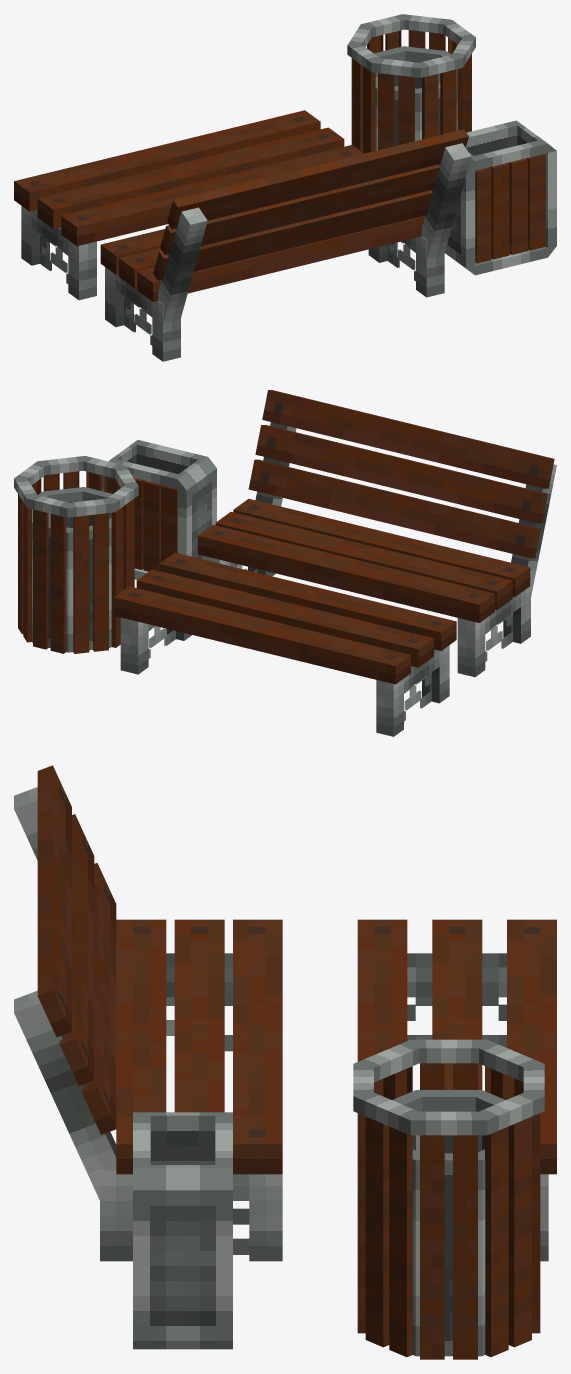
File: bench.fbx
3 renders of one model, top to bottom at view 1: azimuth 30°, elevation 25°; view 2: azimuth 150°, elevation 25°; view 3: azimuth 270°, elevation 25°, orthographic. The views are drawn at different scales.
Parts seen in each view (by area): view 1: mesh, mesh_2, cylinder, mesh_1; view 2: mesh, mesh_2, cylinder, mesh_1; view 3: mesh, cylinder, mesh_2, mesh_1.
Boxes of the visible parts, box(x1,y1,x2,y2) form: mesh: box(100, 129, 471, 361); mesh_2: box(14, 110, 363, 300); cylinder: box(347, 14, 475, 153); mesh_1: box(445, 120, 556, 275); mesh: box(197, 390, 556, 677); mesh_2: box(113, 553, 456, 736); cylinder: box(14, 456, 138, 653); mesh_1: box(102, 440, 216, 579); mesh: box(14, 765, 282, 1261); cylinder: box(353, 1039, 544, 1359); mesh_2: box(357, 919, 556, 1261); mesh_1: box(133, 1112, 232, 1349).
Size of the model in its own units: 286 by 114 by 204.
1 material, 1 textured.
